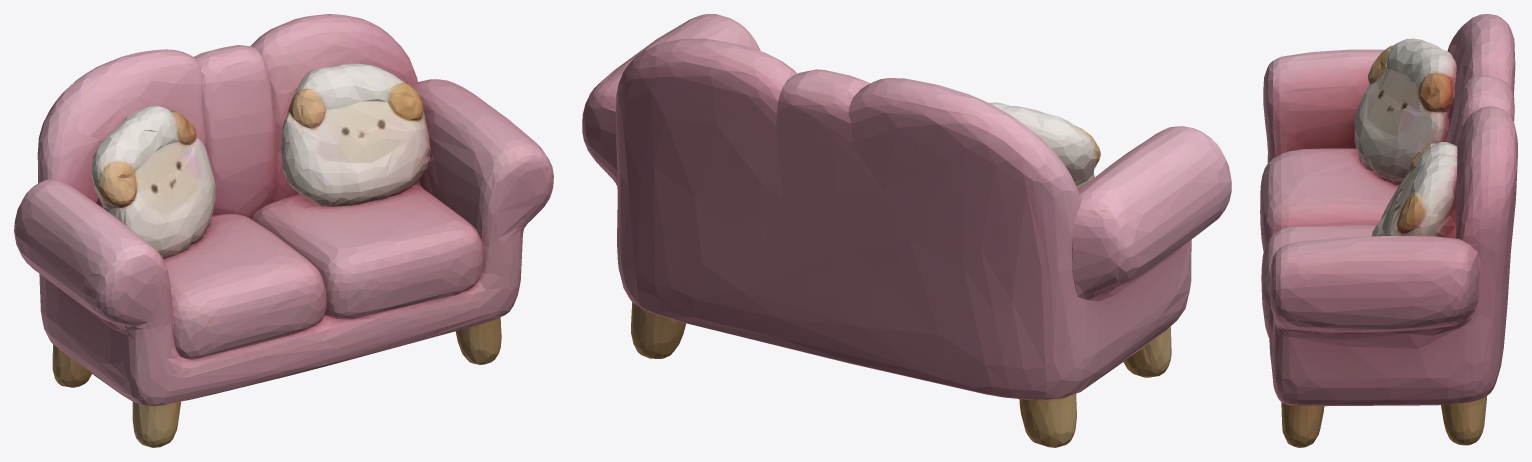
The model's file is cozy_sofa.glb.
The picture shows the model from 3 angles, left to right: view 1: azimuth 30°, elevation 25°; view 2: azimuth 150°, elevation 25°; view 3: azimuth 270°, elevation 25°; orthographic projection. The views are drawn at different scales.
Visible parts, largest first — view 1: geometry_0; view 2: geometry_0; view 3: geometry_0.
Part boxes in pixels (left/top/right/bottom): geometry_0: left=14, top=14, right=553, bottom=447; geometry_0: left=582, top=14, right=1231, bottom=447; geometry_0: left=1260, top=14, right=1517, bottom=447.
Bounding box in the file's own units: 0.998 × 0.6084 × 0.4841.
1 material, 1 textured.
